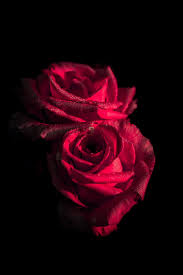lale: (28, 109, 157, 239), (26, 41, 141, 124)
